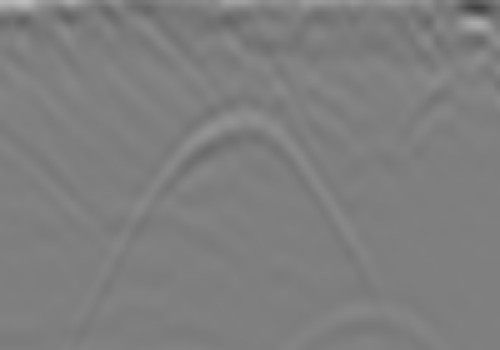hyperbola: (84, 104, 391, 293)
